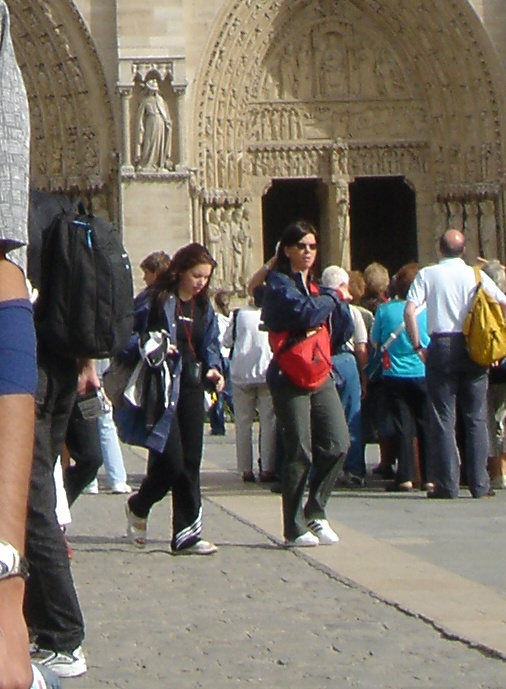person: (248, 216, 353, 550), (129, 243, 219, 550)
